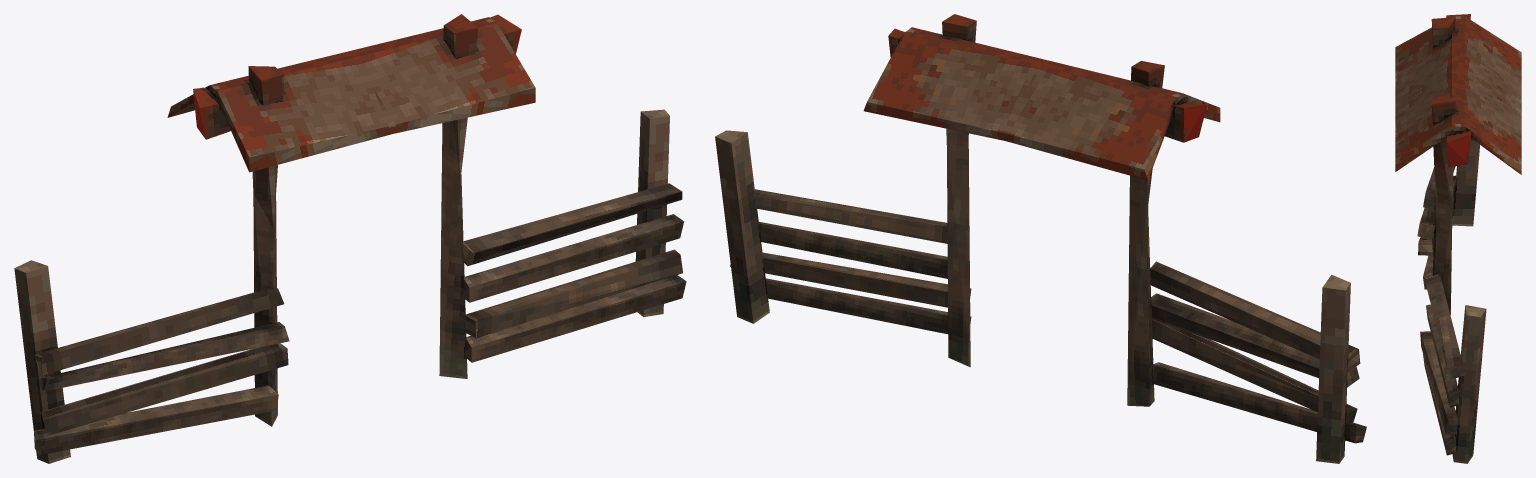
File: gate_ball.glb
The picture shows the model from 3 angles, left to right: view 1: azimuth 30°, elevation 25°; view 2: azimuth 150°, elevation 25°; view 3: azimuth 270°, elevation 25°; orthographic projection. The views are drawn at different scales.
Visible parts, largest first — view 1: gate_ball; view 2: gate_ball; view 3: gate_ball.
Part boxes in pixels (x1=…): gate_ball: x1=14, y1=14, x2=686, y2=463; gate_ball: x1=715, y1=14, x2=1366, y2=463; gate_ball: x1=1395, y1=14, x2=1521, y2=463.
Bounding box in the file's own units: 16.16 × 8.37 × 3.36.
Materials: 1 (1 with a texture image).
